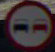No overtake: (4, 2, 50, 43)
